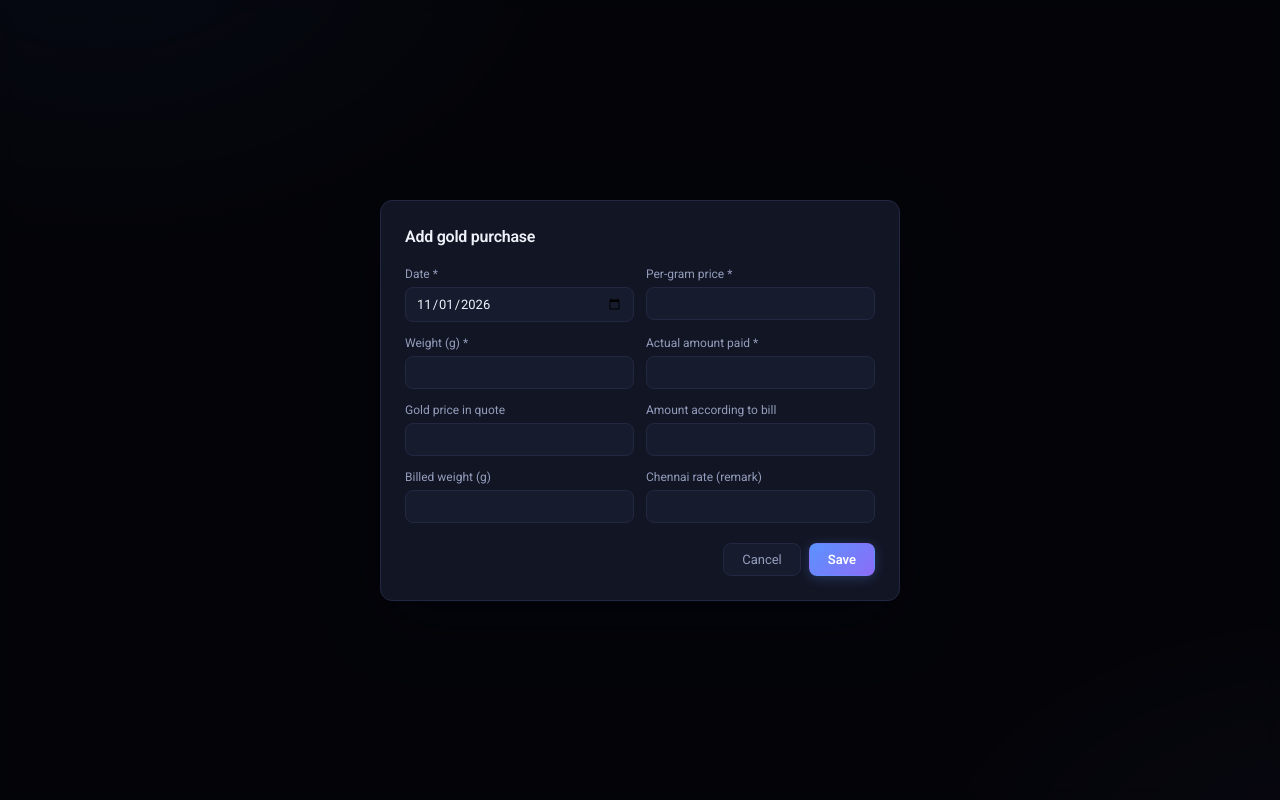
GoldTxnModal › rejects malformed amounts instead of sending NaN
Type "2026-07-01" into the date field labelled "Date *".
click(520, 304); type("2026-07-01")  # box [405, 286, 634, 322]
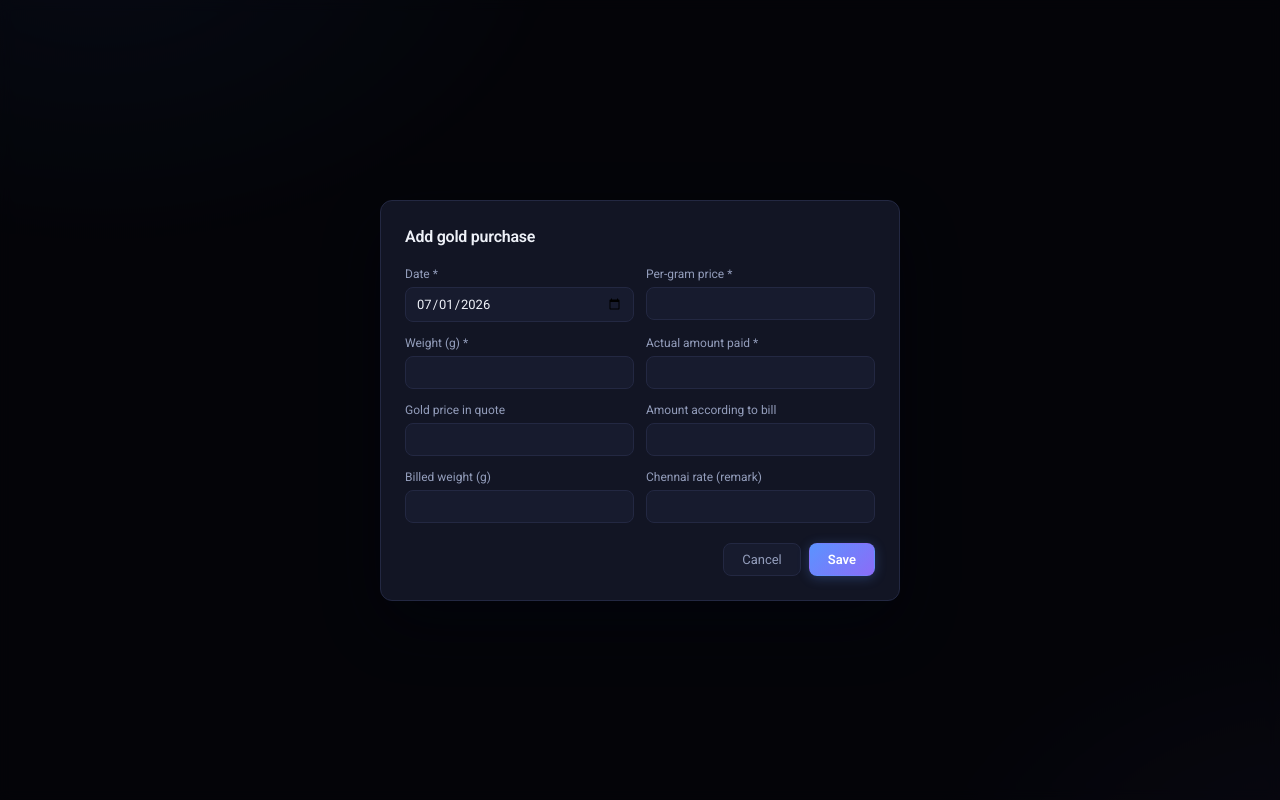
Type "7275" into the field labelled "Per-gram price *".
click(760, 303); type("7275")  # box [646, 286, 875, 320]
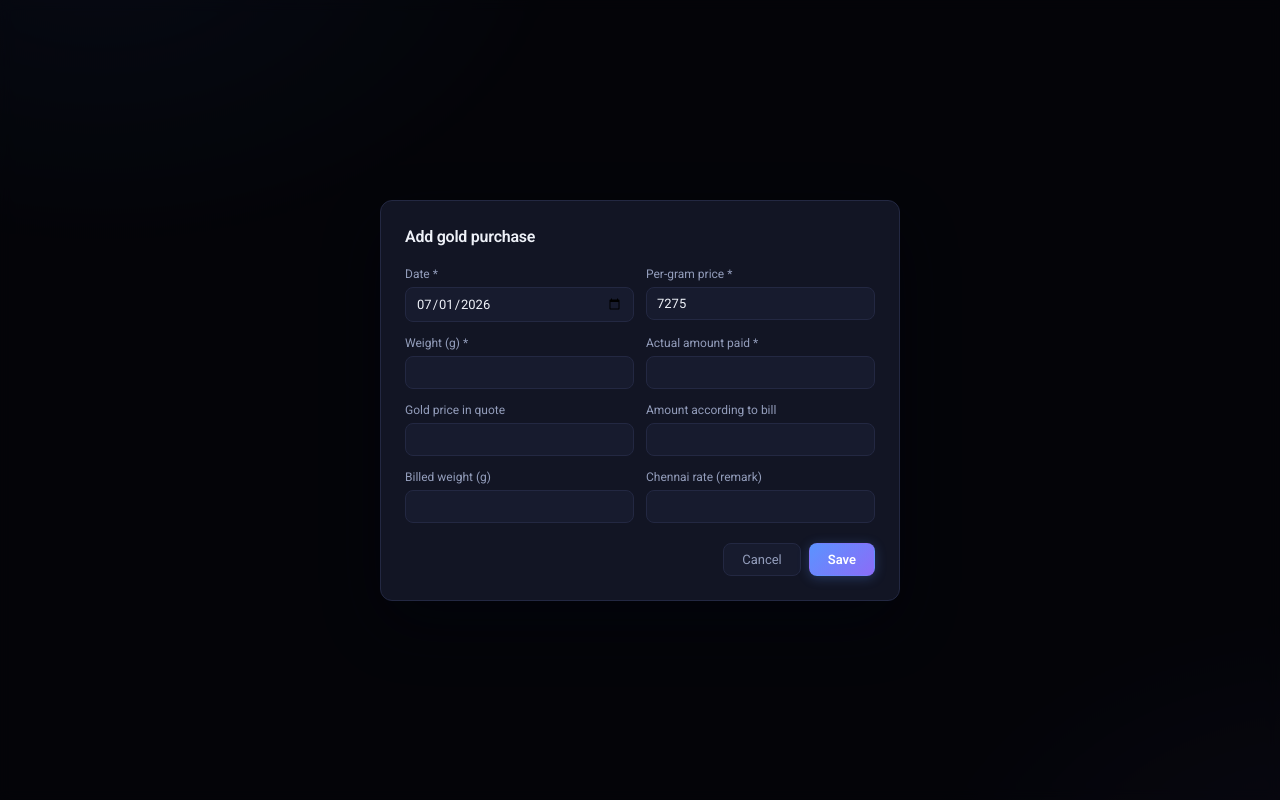
Type "8" into the field labelled "Weight (g) *".
click(520, 372); type("8")  # box [405, 356, 634, 388]
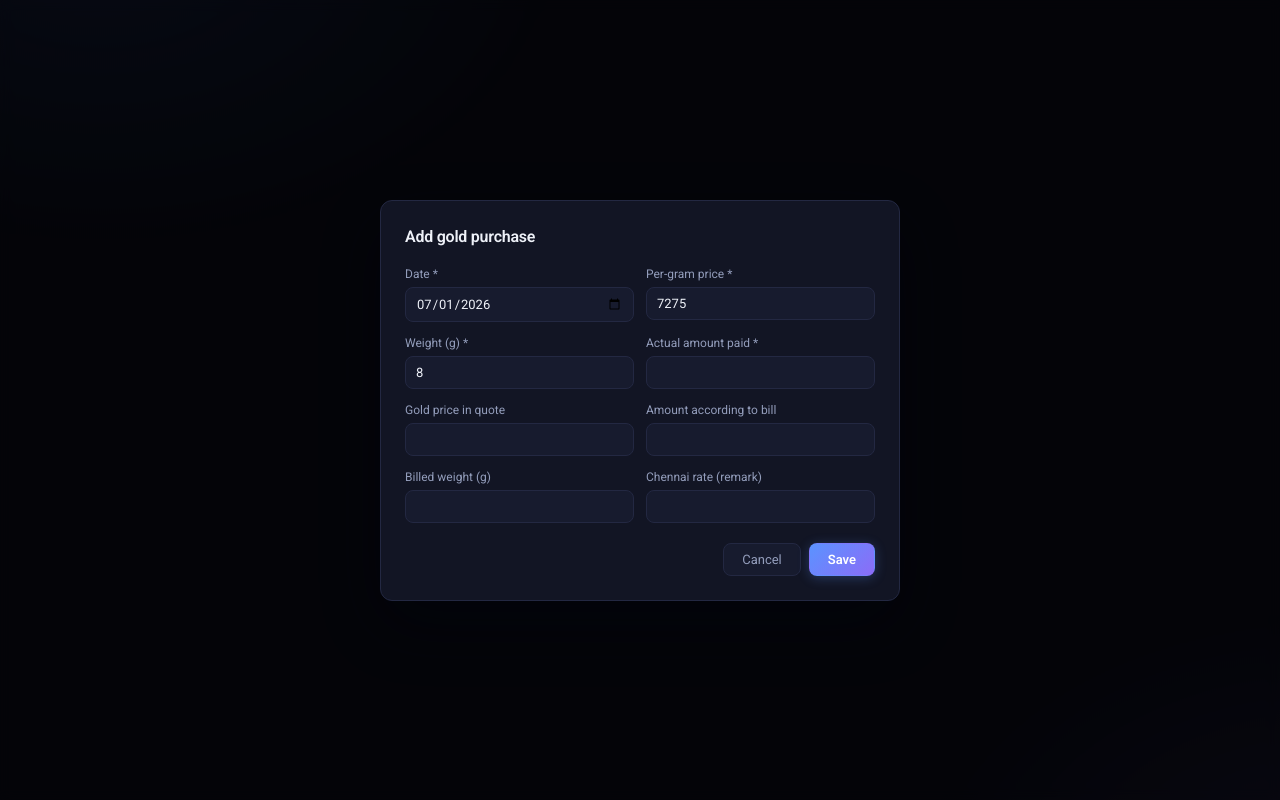
Type "1..2" into the field labelled "Actual amount paid *".
click(760, 372); type("1..2")  # box [646, 356, 875, 388]
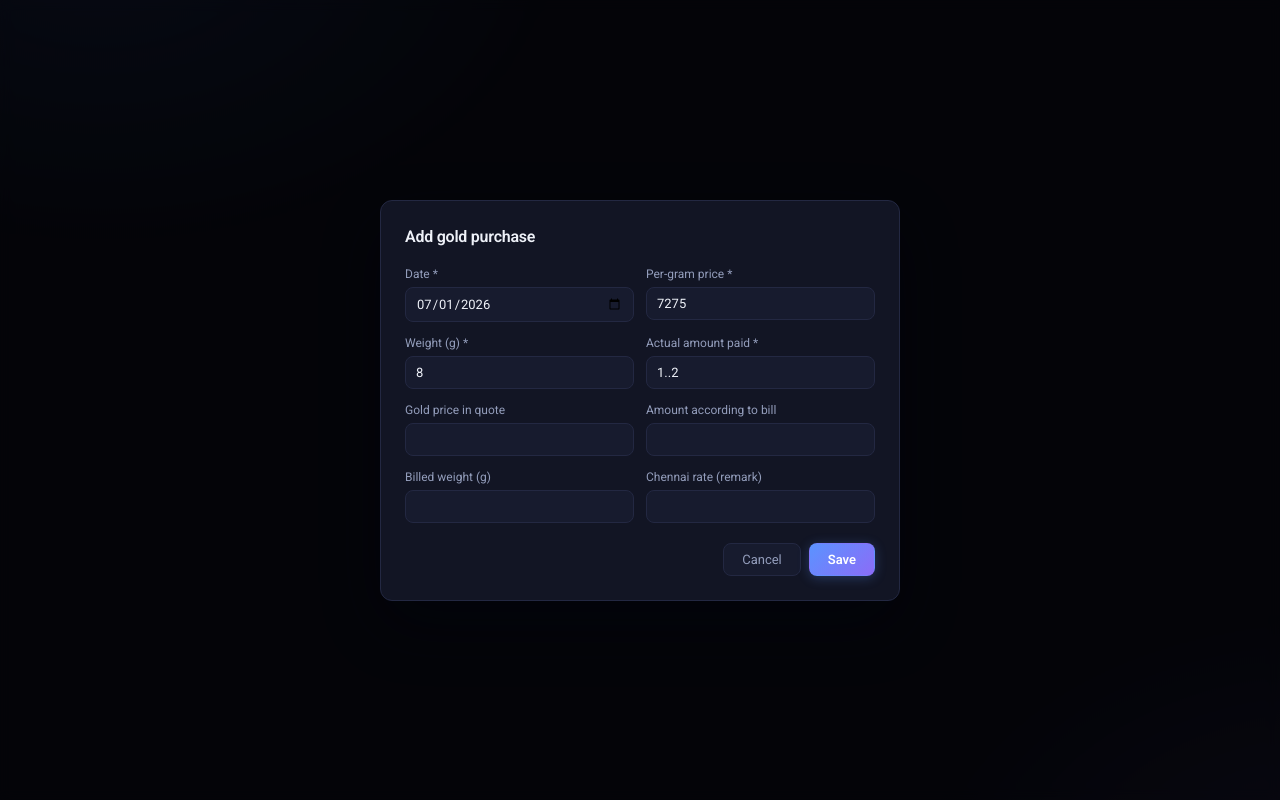
Click the button "Save".
click(842, 559)  # box [809, 542, 875, 576]
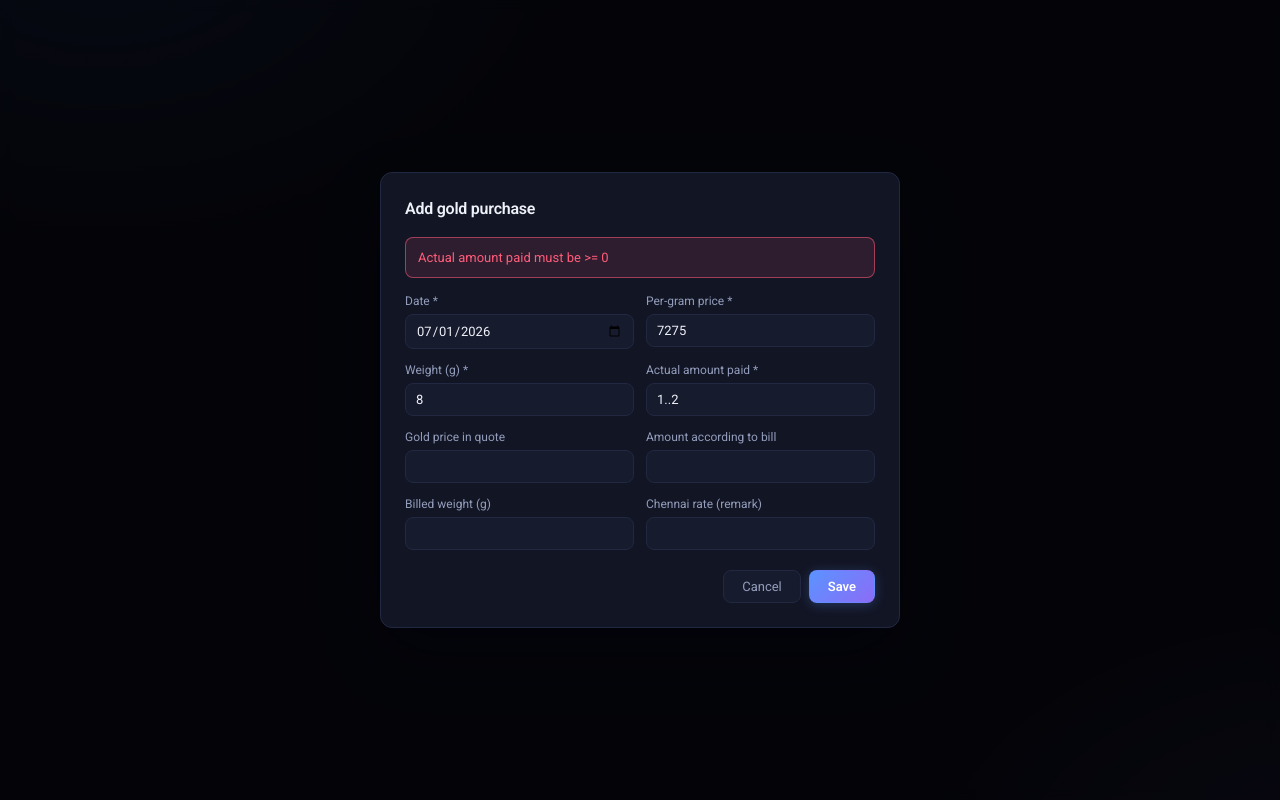
Check: the text "Actual amount paid must be >= 0" is shown, box [405, 237, 875, 278]
